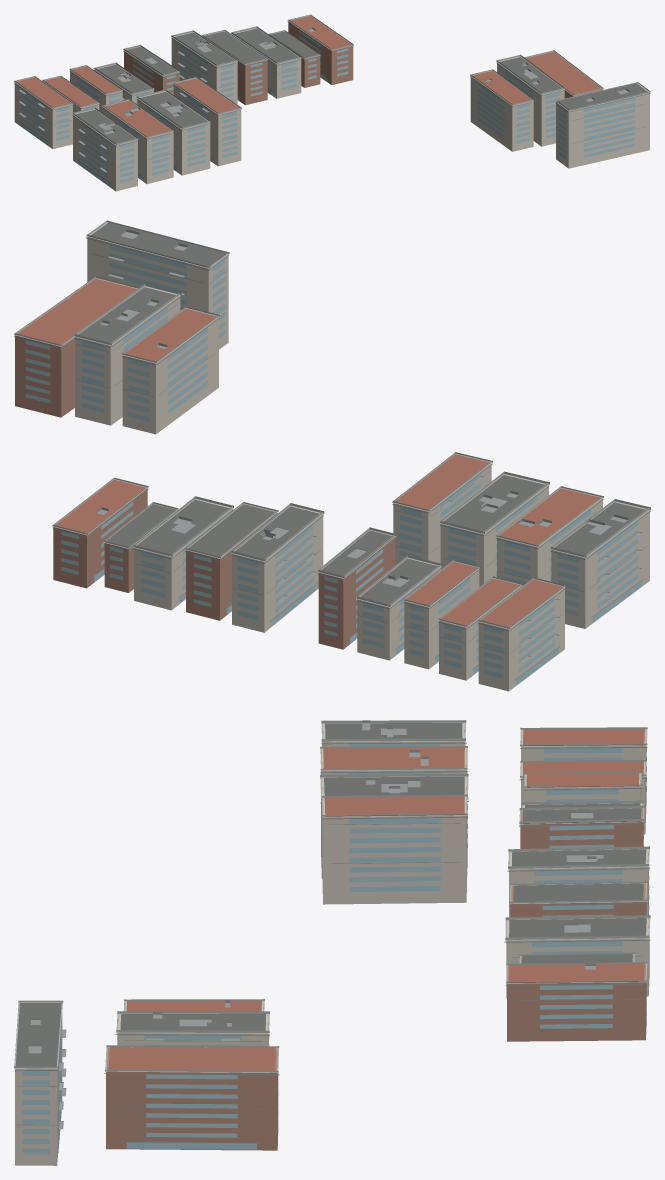
The model's file is tile-m003-m002.glb.
3 renders of one model, top to bottom at view 1: azimuth 30°, elevation 25°; view 2: azimuth 150°, elevation 25°; view 3: azimuth 270°, elevation 25°, orthographic. The views are drawn at different scales.
Visible parts, largest first — view 1: building-0174-mesh-86, building-0175-mesh-93, building-0017-mesh-0, building-0174-mesh-87, building-0022-mesh-27, building-0020-mesh-21, building-0019-mesh-14, building-0018-mesh-7, building-0090-mesh-56, building-0177-mesh-110, building-0094-mesh-80, building-0176-mesh-100 (+44 smaller); view 2: building-0175-mesh-93, building-0090-mesh-56, building-0017-mesh-0, building-0174-mesh-86, building-0177-mesh-107, building-0022-mesh-27, building-0176-mesh-100, building-0026-mesh-50, building-0177-mesh-110, building-0094-mesh-80, building-0091-mesh-63, building-0020-mesh-21 (+45 smaller); view 3: building-0177-mesh-107, building-0020-mesh-21, building-0094-mesh-80, building-0020-mesh-22, building-0177-mesh-108, building-0177-mesh-110, building-0174-mesh-86, building-0018-mesh-11, building-0020-mesh-25, building-0174-mesh-90, building-0026-mesh-50, building-0094-mesh-83 (+37 smaller).
Boxes of the visible parts, x1,y1,x2,y2 form: building-0174-mesh-86: (556, 84, 649, 168); building-0175-mesh-93: (470, 76, 533, 151); building-0017-mesh-0: (73, 109, 137, 191); building-0174-mesh-87: (558, 97, 635, 159); building-0022-mesh-27: (14, 82, 72, 149); building-0020-mesh-21: (173, 84, 241, 166); building-0019-mesh-14: (137, 91, 210, 175); building-0018-mesh-7: (102, 107, 173, 184); building-0090-mesh-56: (171, 32, 237, 104); building-0177-mesh-110: (526, 52, 601, 94); building-0094-mesh-80: (288, 21, 353, 84); building-0176-mesh-100: (497, 56, 564, 146); building-0175-mesh-93: (122, 317, 218, 434); building-0090-mesh-56: (232, 506, 323, 632); building-0017-mesh-0: (551, 502, 649, 628); building-0174-mesh-86: (87, 223, 228, 349); building-0177-mesh-107: (15, 278, 137, 417); building-0022-mesh-27: (478, 588, 564, 691); building-0176-mesh-100: (75, 286, 180, 425); building-0026-mesh-50: (318, 530, 395, 649); building-0177-mesh-110: (17, 278, 136, 344); building-0094-mesh-80: (53, 488, 147, 588); building-0091-mesh-63: (186, 504, 277, 620); building-0020-mesh-21: (393, 463, 491, 564); building-0177-mesh-107: (106, 1047, 278, 1150); building-0020-mesh-21: (322, 796, 466, 904); building-0094-mesh-80: (507, 964, 646, 1041); building-0020-mesh-22: (322, 817, 440, 891); building-0177-mesh-108: (126, 1074, 278, 1149); building-0177-mesh-110: (108, 1047, 275, 1070); building-0174-mesh-86: (15, 1013, 62, 1165); building-0018-mesh-11: (323, 747, 464, 768); building-0020-mesh-25: (324, 796, 464, 816); building-0174-mesh-90: (15, 1003, 61, 1066); building-0026-mesh-50: (520, 808, 643, 848); building-0094-mesh-83: (509, 963, 644, 982).
Size of the model in its own units: 274 by 34.95 by 199.
